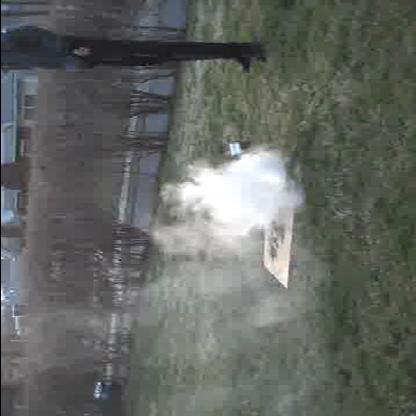Smoke: (174, 155, 290, 259)
